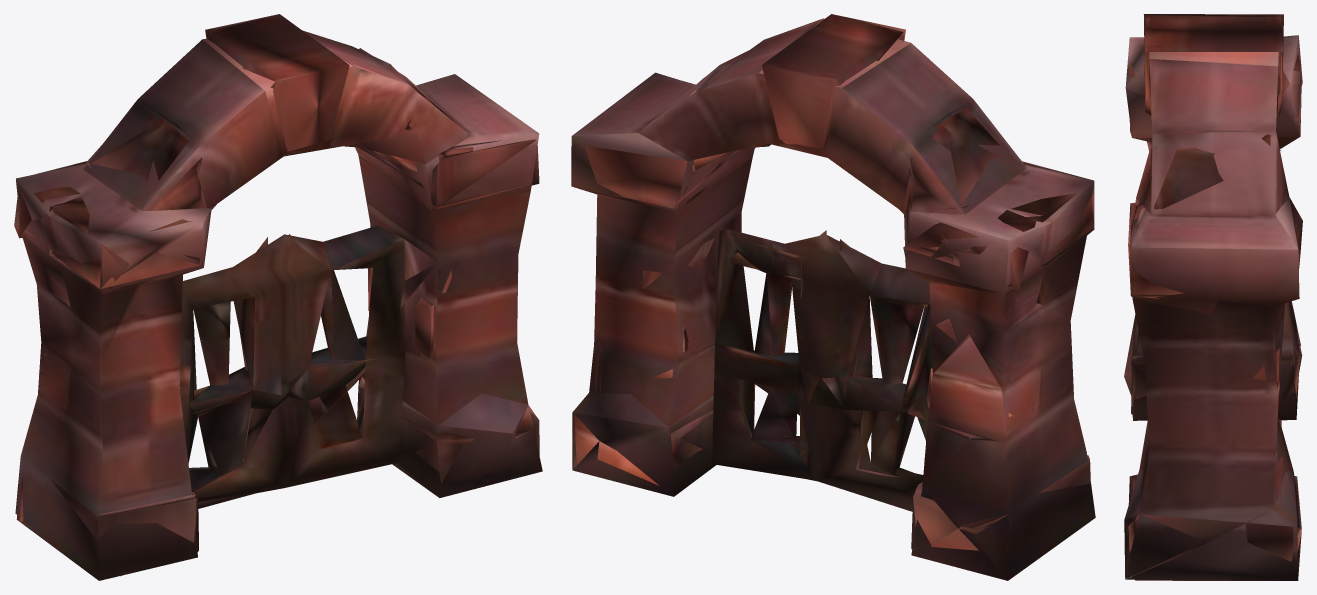
The model's file is lg-portcullis.glb.
3 views of the same model, side by side, from view 1: azimuth 30°, elevation 25°; view 2: azimuth 150°, elevation 25°; view 3: azimuth 270°, elevation 25° (orthographic).
Visible parts, largest first — view 1: geometry_0; view 2: geometry_0; view 3: geometry_0.
Part boxes in pixels (x1,y1,x2,y2): geometry_0: (14, 14, 542, 580); geometry_0: (571, 14, 1095, 580); geometry_0: (1124, 14, 1302, 580).
Size of the model in its own units: 1 by 0.9613 by 0.3489.
1 material, 1 textured.
